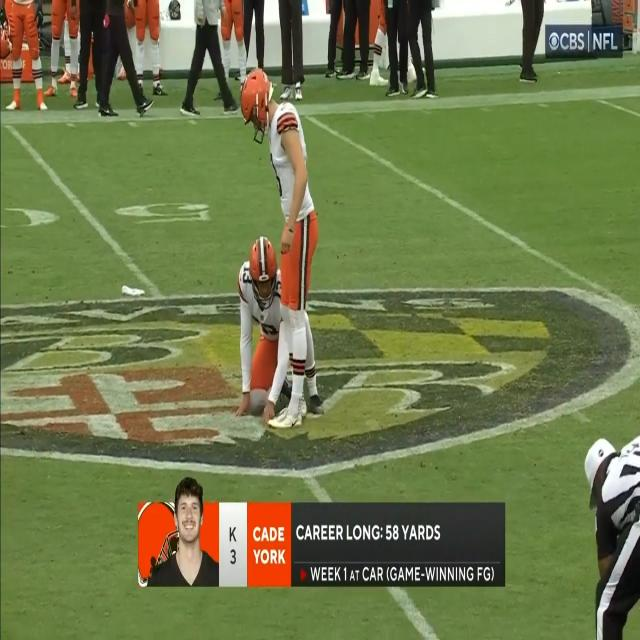players: (242, 50, 319, 432), (232, 241, 291, 424), (589, 434, 640, 637)
